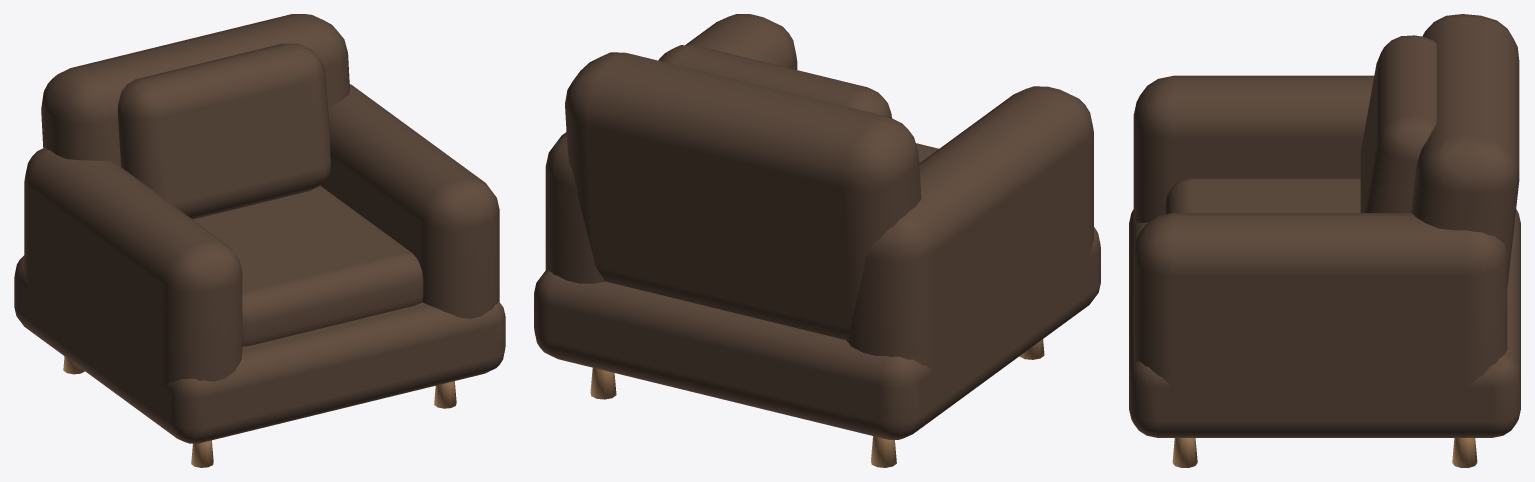
Rendered from armchair.glb.
The picture shows the model from 3 angles, left to right: view 1: azimuth 30°, elevation 25°; view 2: azimuth 150°, elevation 25°; view 3: azimuth 270°, elevation 25°; orthographic projection. The views are drawn at different scales.
Visible parts, largest first — view 1: armchair; view 2: armchair; view 3: armchair.
Boxes of the visible parts, x1,y1,x2,y2 form: armchair: (14,14,505,467); armchair: (534,14,1100,467); armchair: (1129,14,1520,467).
Bounding box in the file's own units: 0.9289 × 0.7852 × 0.8689.
